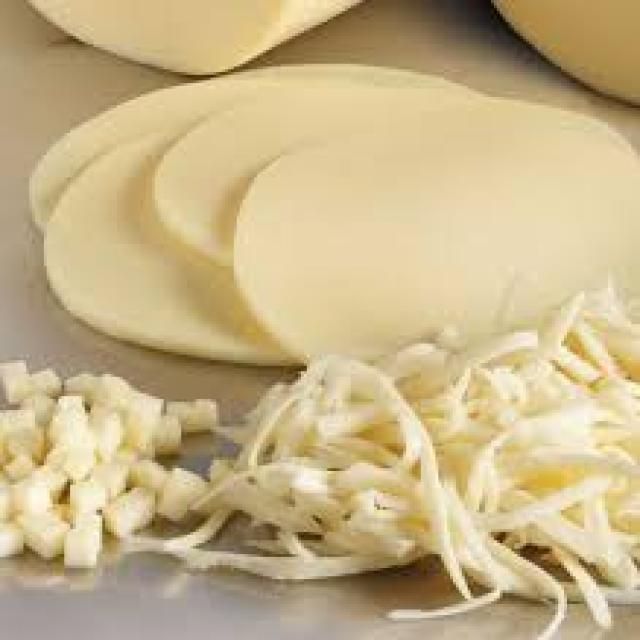cheese: (46, 66, 635, 350)
